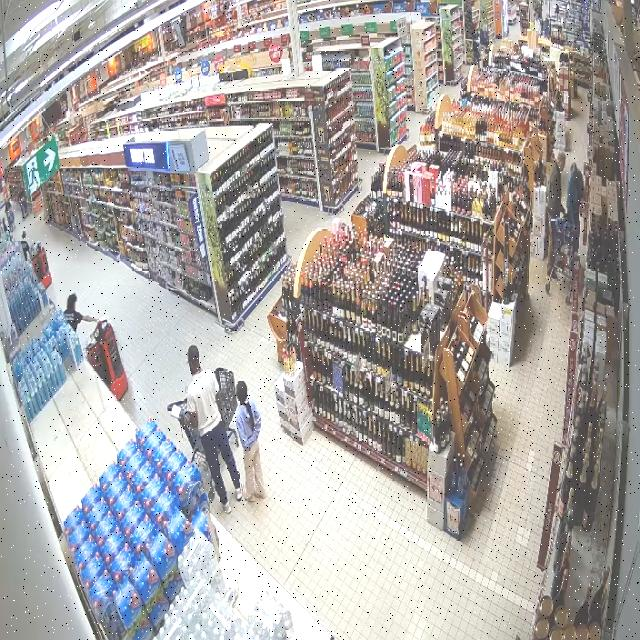hands: (94, 318, 99, 323)
person: (186, 346, 242, 512), (235, 380, 265, 501), (545, 152, 565, 276), (566, 162, 584, 252), (65, 293, 101, 332)
